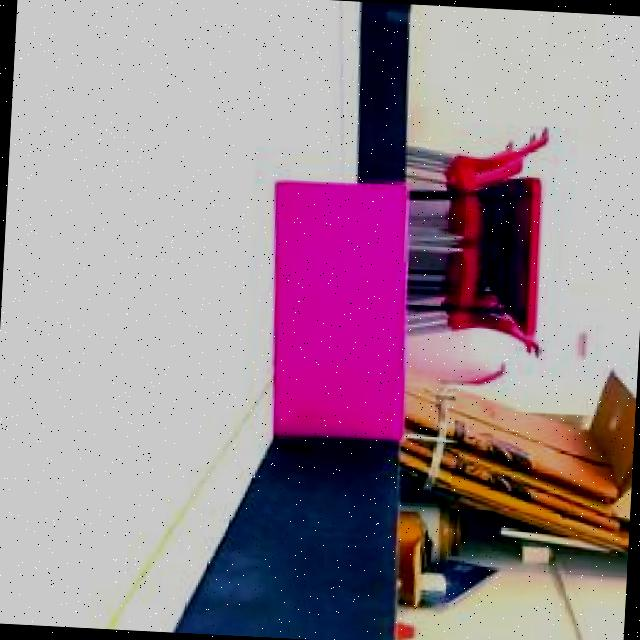xparking: (264, 171, 418, 442)
